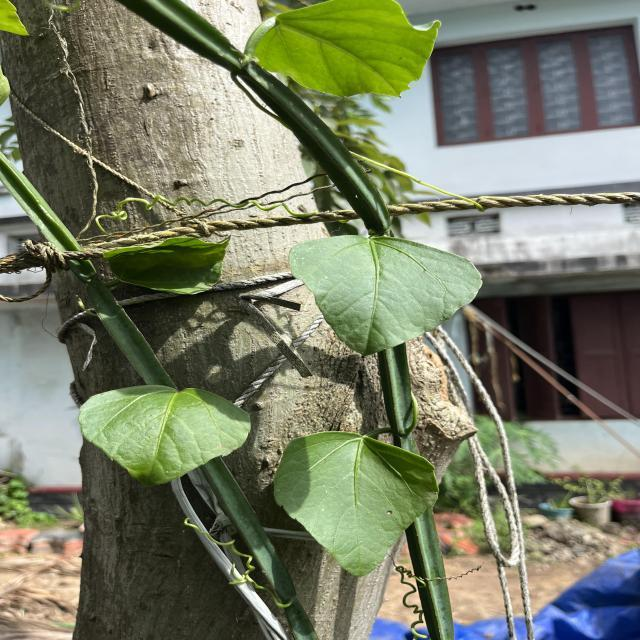Cissus quadrangularis: (272, 428, 440, 578), (286, 233, 486, 358), (75, 382, 254, 490)
